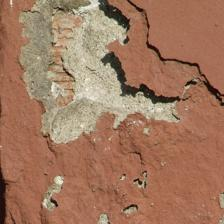Crack: (51, 1, 172, 106)
